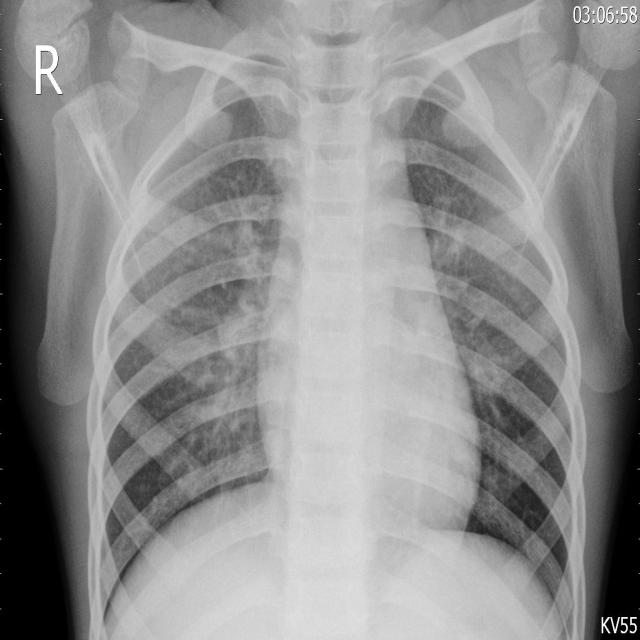low-pneumonia: (187, 196, 278, 445), (428, 199, 516, 401)
